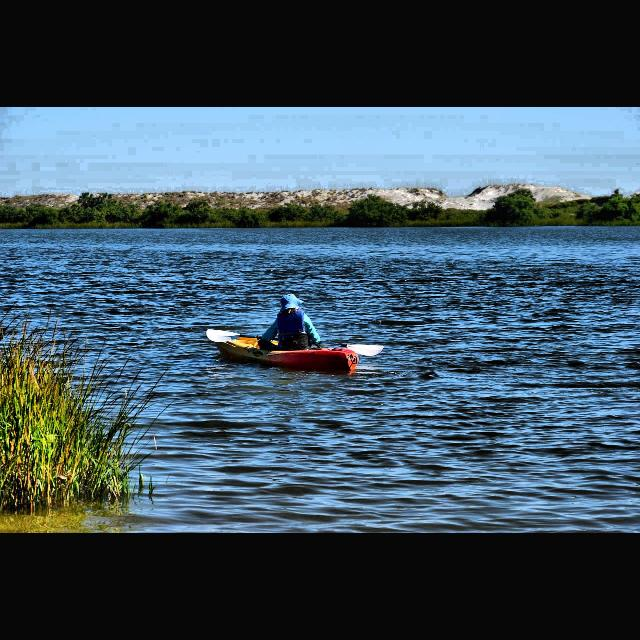kayak: (212, 326, 360, 374)
